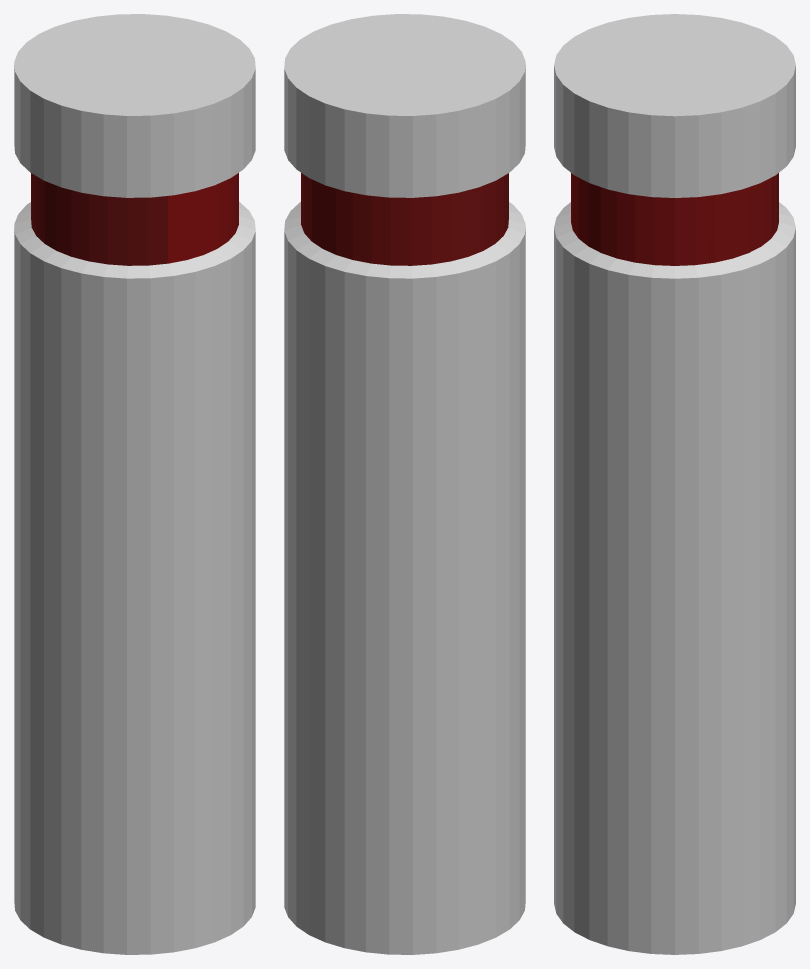
Rendered from UvsHierroParking.fbx.
3 views of the same model, side by side, from view 1: azimuth 30°, elevation 25°; view 2: azimuth 150°, elevation 25°; view 3: azimuth 270°, elevation 25° (orthographic).
Parts seen in each view (by area): view 1: barrera de metal; view 2: barrera de metal; view 3: barrera de metal.
Part boxes in pixels (left/top/right/bottom): barrera de metal: left=14, top=14, right=255, bottom=954; barrera de metal: left=284, top=14, right=525, bottom=954; barrera de metal: left=554, top=14, right=795, bottom=954.
Size of the model in its own units: 125 by 479 by 125.
